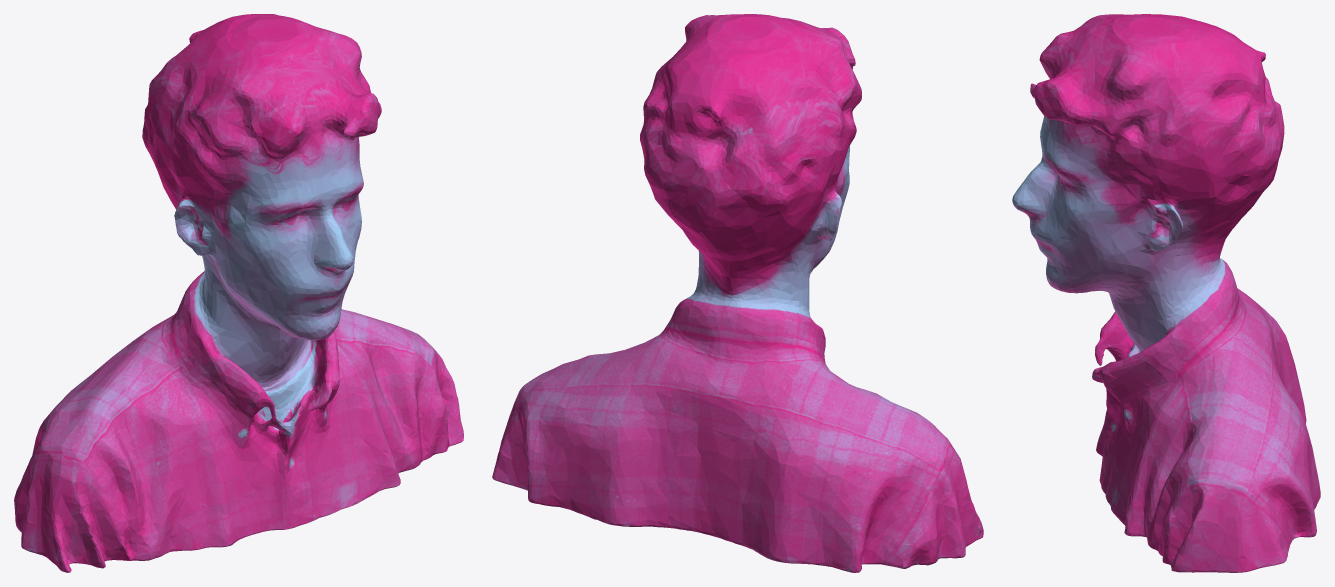
File: leo_head.gltf
3 renders of one model, left to right at view 1: azimuth 30°, elevation 25°; view 2: azimuth 150°, elevation 25°; view 3: azimuth 270°, elevation 25°, orthographic. The views are drawn at different scales.
Visible parts, largest first — view 1: model_mesh; view 2: model_mesh; view 3: model_mesh.
Boxes of the visible parts, left/top/right/bottom form: model_mesh: left=14, top=14, right=463, bottom=572; model_mesh: left=492, top=14, right=983, bottom=572; model_mesh: left=1012, top=14, right=1320, bottom=572.
Size of the model in its own units: 2.47 by 2.52 by 1.53.
Materials: 1 (1 with a texture image).
